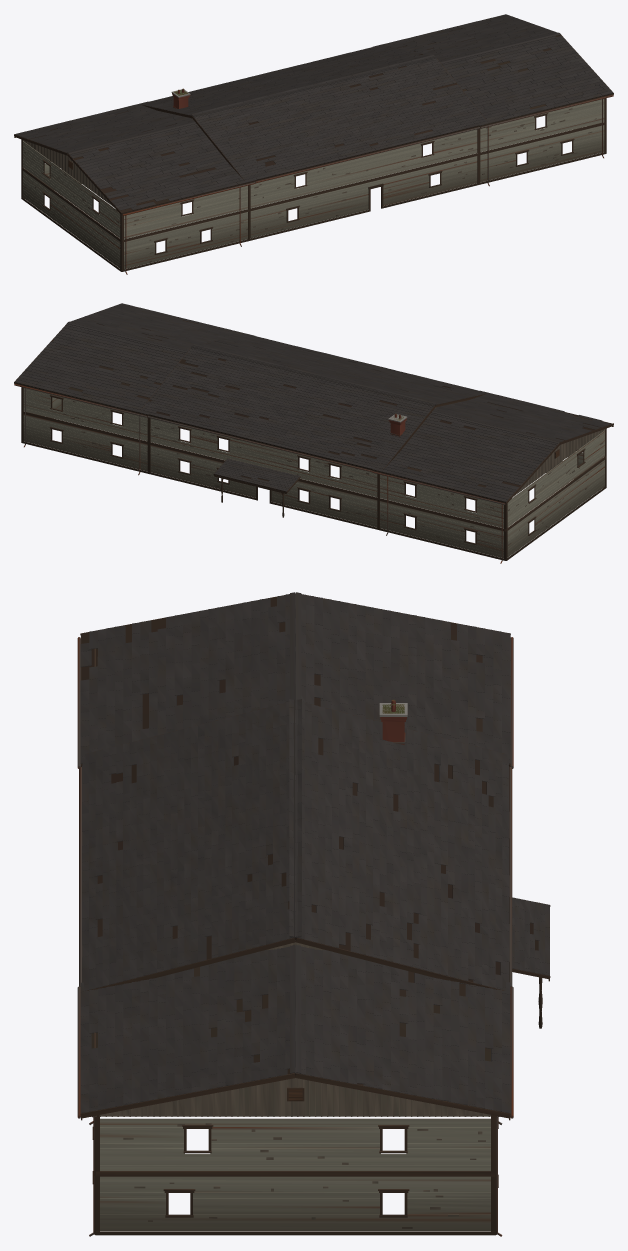
File: FarmhouseExteriorXL.glb
3 views of the same model, one above another, from view 1: azimuth 30°, elevation 25°; view 2: azimuth 150°, elevation 25°; view 3: azimuth 270°, elevation 25° (orthographic). The views are drawn at different scales.
Parts seen in each view (by area): view 1: FarmhouseExteriorXL_shingle, FarmhouseExteriorXL_clapboard_farm, FarmhouseExteriorXL_shingle_2, FarmhouseExteriorXL_trim, FarmhouseExteriorXL_roof_deck, FarmhouseExteriorXL_siding, FarmhouseExteriorXL_iron; view 2: FarmhouseExteriorXL_shingle, FarmhouseExteriorXL_clapboard_farm, FarmhouseExteriorXL_shingle_2, FarmhouseExteriorXL_trim, FarmhouseExteriorXL_roof_deck, FarmhouseExteriorXL_iron, FarmhouseExteriorXL_siding; view 3: FarmhouseExteriorXL_shingle, FarmhouseExteriorXL_shingle_2, FarmhouseExteriorXL_clapboard_farm, FarmhouseExteriorXL_trim, FarmhouseExteriorXL_siding, FarmhouseExteriorXL_roof_deck, FarmhouseExteriorXL_iron.
Part boxes in pixels (x1=…): FarmhouseExteriorXL_shingle: x1=14, y1=45, x2=487, y2=210; FarmhouseExteriorXL_clapboard_farm: x1=23, y1=99, x2=604, y2=269; FarmhouseExteriorXL_shingle_2: x1=67, y1=14, x2=613, y2=186; FarmhouseExteriorXL_trim: x1=14, y1=20, x2=613, y2=271; FarmhouseExteriorXL_roof_deck: x1=29, y1=28, x2=612, y2=213; FarmhouseExteriorXL_siding: x1=22, y1=108, x2=601, y2=262; FarmhouseExteriorXL_iron: x1=122, y1=95, x2=613, y2=274; FarmhouseExteriorXL_shingle: x1=140, y1=334, x2=610, y2=501; FarmhouseExteriorXL_clapboard_farm: x1=23, y1=388, x2=604, y2=558; FarmhouseExteriorXL_shingle_2: x1=15, y1=303, x2=589, y2=491; FarmhouseExteriorXL_trim: x1=14, y1=320, x2=613, y2=560; FarmhouseExteriorXL_roof_deck: x1=15, y1=321, x2=611, y2=502; FarmhouseExteriorXL_iron: x1=14, y1=384, x2=505, y2=563; FarmhouseExteriorXL_siding: x1=63, y1=401, x2=606, y2=545; FarmhouseExteriorXL_shingle: x1=80, y1=593, x2=510, y2=990; FarmhouseExteriorXL_shingle_2: x1=80, y1=592, x2=549, y2=1113; FarmhouseExteriorXL_clapboard_farm: x1=100, y1=1118, x2=490, y2=1230; FarmhouseExteriorXL_trim: x1=80, y1=595, x2=550, y2=1235; FarmhouseExteriorXL_siding: x1=95, y1=940, x2=490, y2=1228; FarmhouseExteriorXL_roof_deck: x1=81, y1=597, x2=538, y2=1101; FarmhouseExteriorXL_iron: x1=77, y1=637, x2=513, y2=1236.
Size of the model in its own units: 209 by 39.67 by 86.88.
